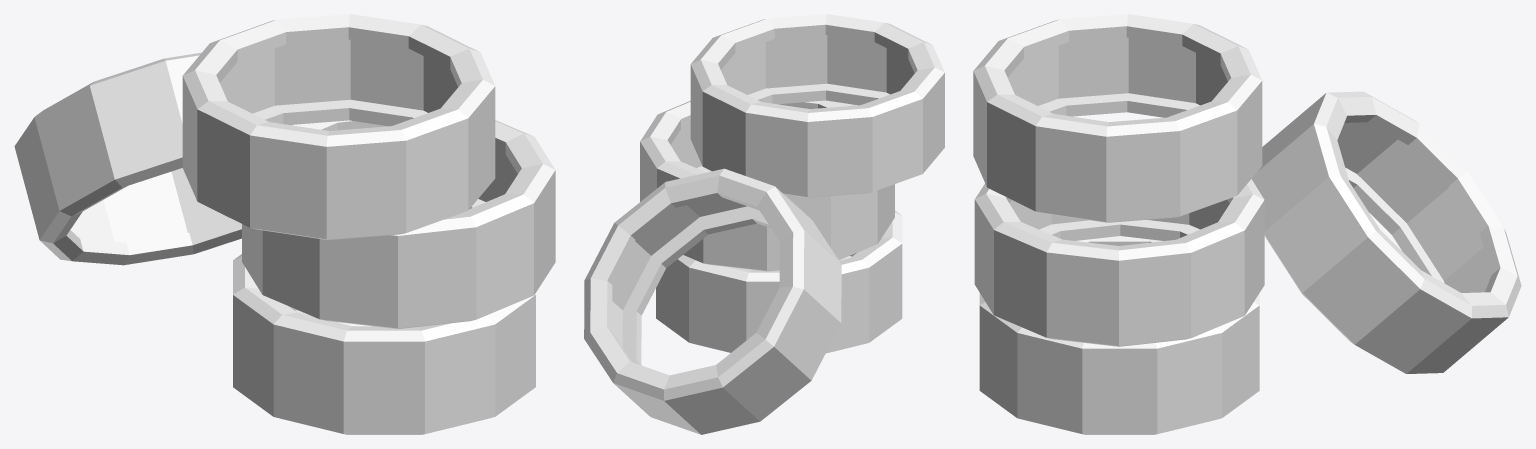
Rendered from Prop_Tire_Pile_01.glb.
3 renders of one model, left to right at view 1: azimuth 30°, elevation 25°; view 2: azimuth 150°, elevation 25°; view 3: azimuth 270°, elevation 25°, orthographic. The views are drawn at different scales.
Visible parts, largest first — view 1: Prop_Tire_Pile_01; view 2: Prop_Tire_Pile_01; view 3: Prop_Tire_Pile_01.
Boxes of the visible parts, x1=… form: Prop_Tire_Pile_01: x1=14, y1=14, x2=555, y2=434; Prop_Tire_Pile_01: x1=584, y1=14, x2=944, y2=434; Prop_Tire_Pile_01: x1=973, y1=14, x2=1521, y2=434.
Bounding box in the file's own units: 1.07 × 0.9149 × 1.57.
1 material, 1 textured.
